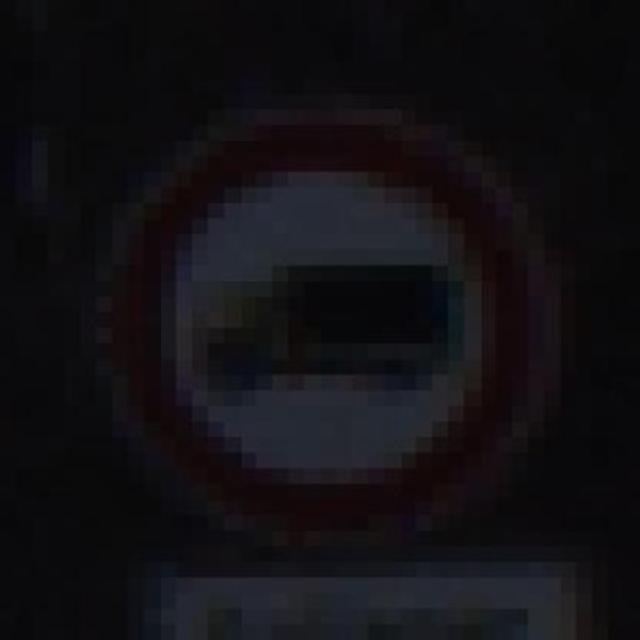Truck traffic is prohibited: (65, 91, 560, 544)
